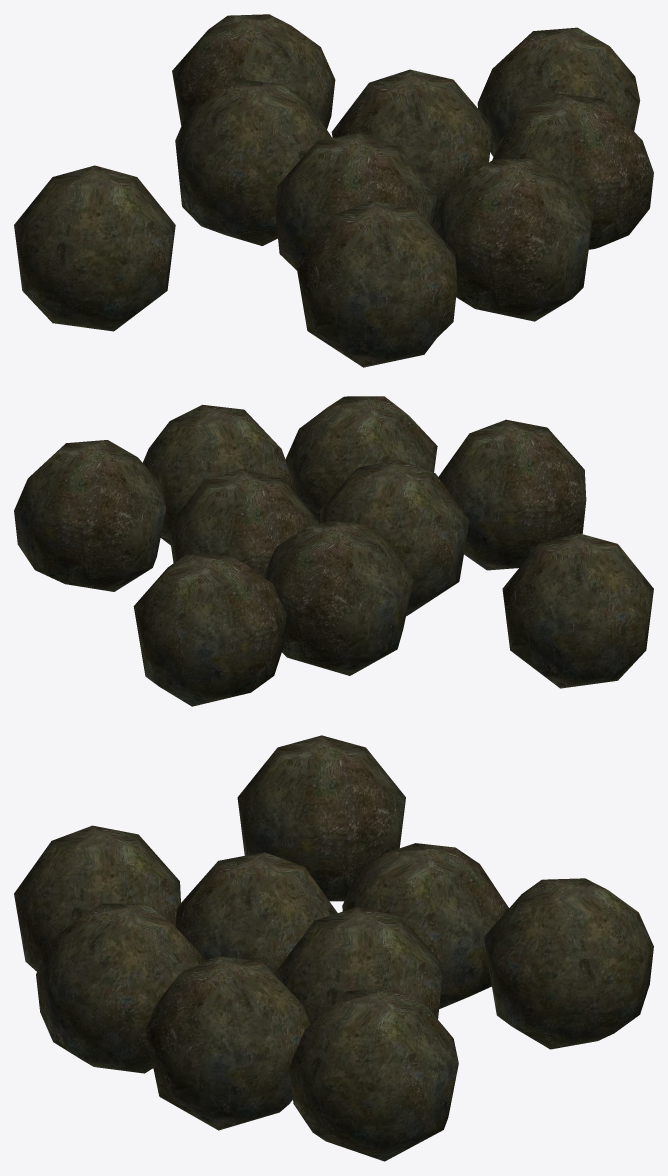
The model's file is NW_HARBOUR_CANONBALLS_02.glb.
3 views of the same model, one above another, from view 1: azimuth 30°, elevation 25°; view 2: azimuth 150°, elevation 25°; view 3: azimuth 270°, elevation 25° (orthographic). The views are drawn at different scales.
Visible parts, largest first — view 1: Mesh; view 2: Mesh; view 3: Mesh.
Boxes of the visible parts, x1,y1,x2,y2 form: Mesh: (14, 14, 653, 367); Mesh: (14, 396, 653, 706); Mesh: (14, 735, 653, 1161).
Size of the model in its own units: 1 by 0.2247 by 0.8395.
Materials: 1 (1 with a texture image).
